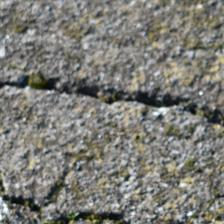Crack: (4, 36, 218, 99)
